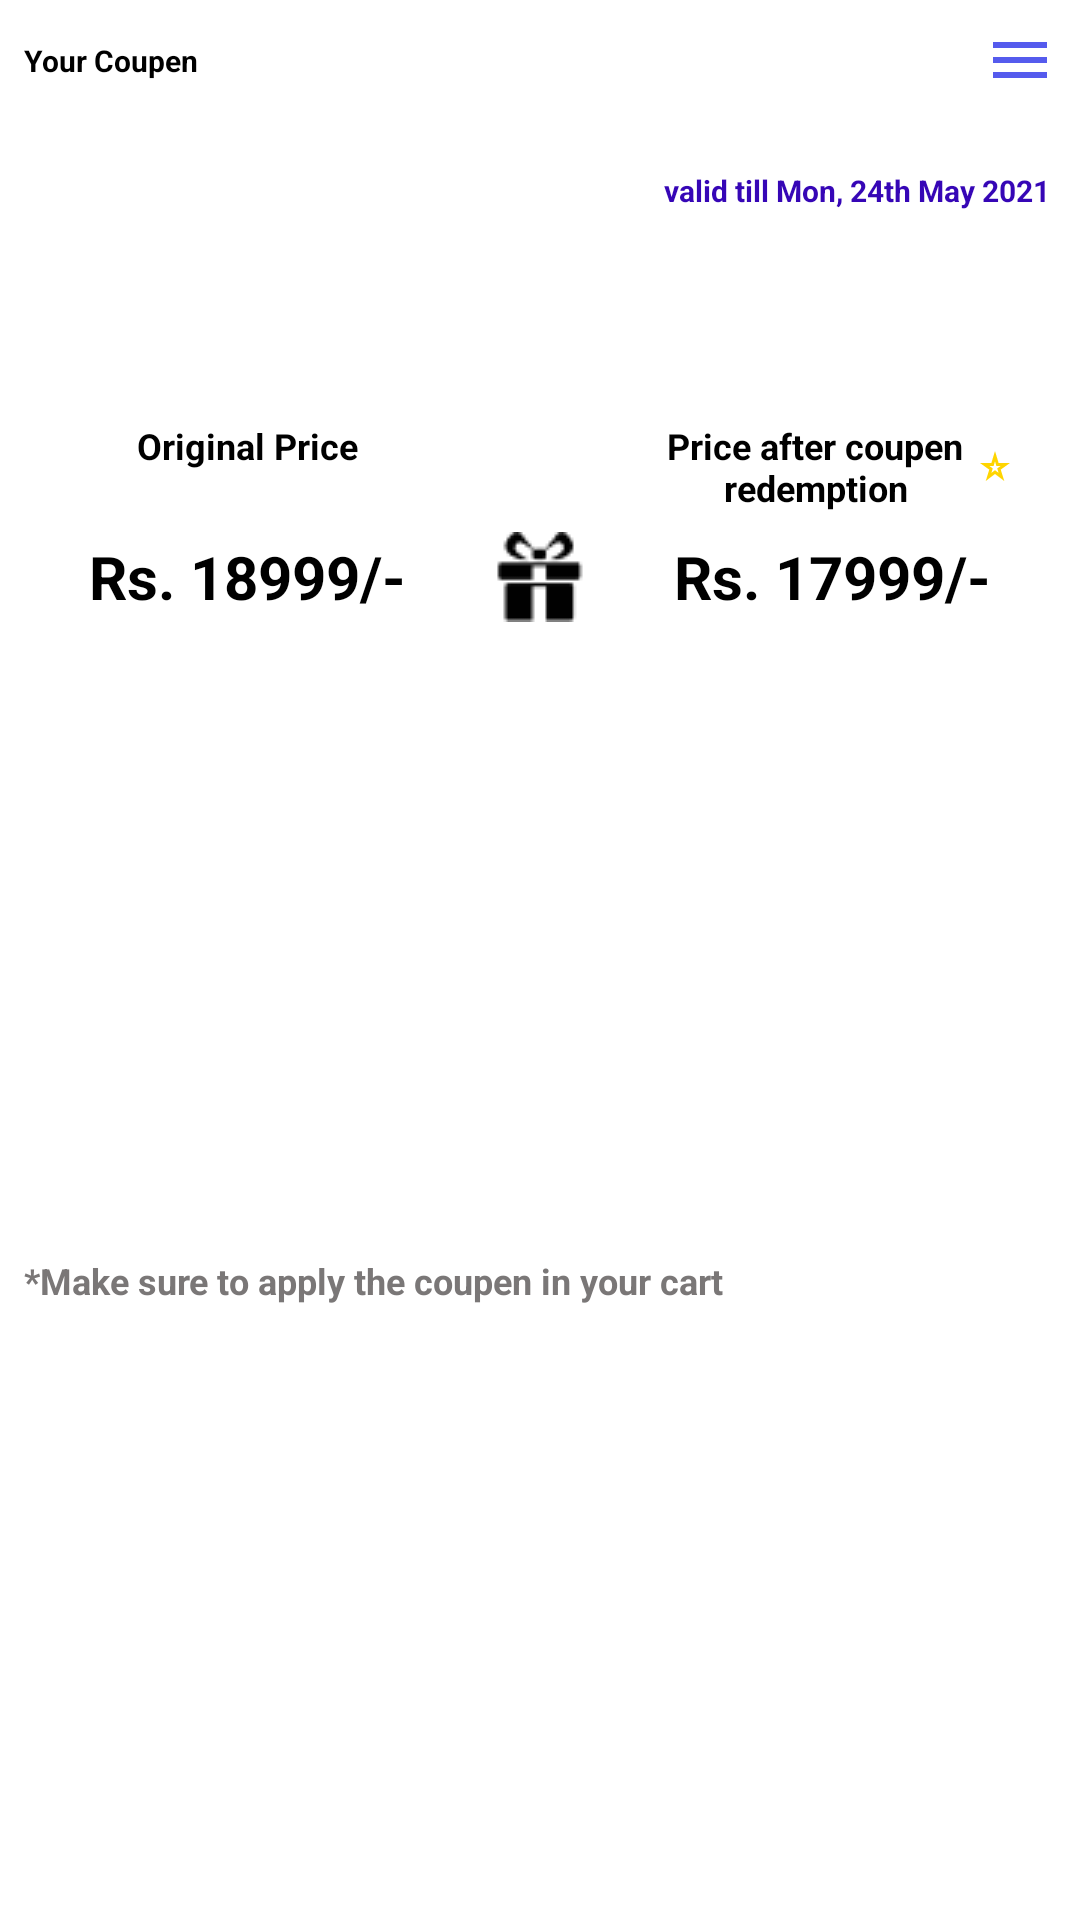

Where to tap for icons on this 1080w x 1920h app screen, as (x,y):
category rewards: (540,577)
menu: (1020,60)
